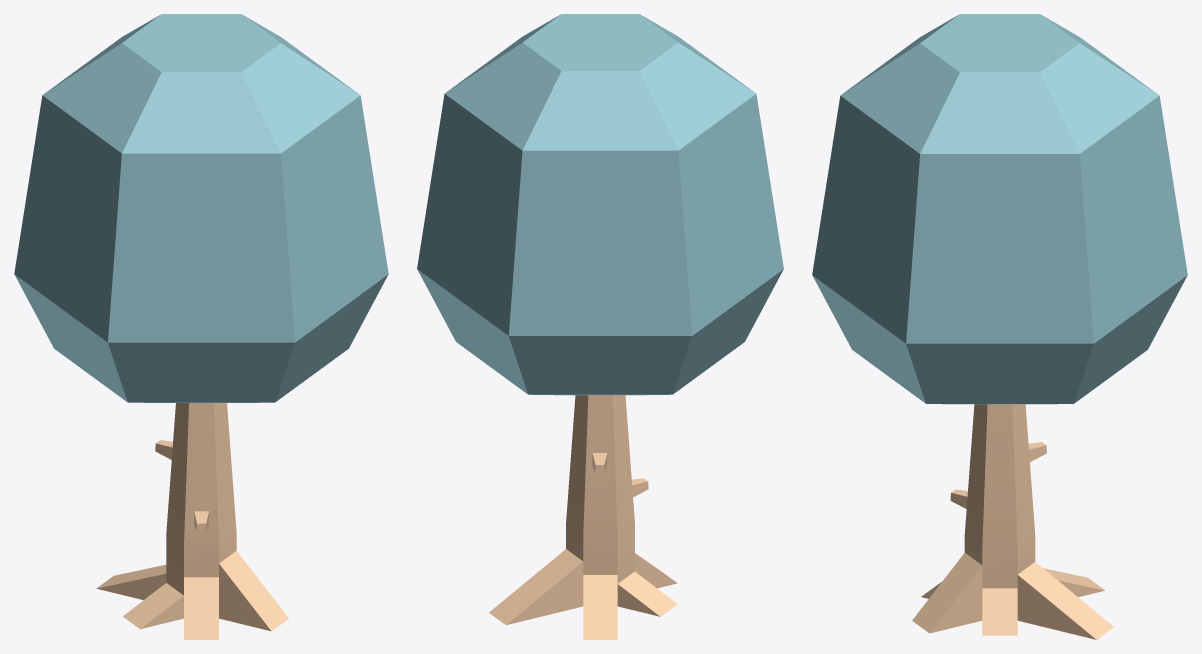
File: tree_oak_dark.glb
The picture shows the model from 3 angles, left to right: view 1: azimuth 30°, elevation 25°; view 2: azimuth 150°, elevation 25°; view 3: azimuth 270°, elevation 25°; orthographic projection. The views are drawn at different scales.
Parts seen in each view (by area): view 1: tree_oak_dark; view 2: tree_oak_dark; view 3: tree_oak_dark.
Boxes of the visible parts, x1=… form: tree_oak_dark: x1=14, y1=14, x2=388, y2=639; tree_oak_dark: x1=417, y1=14, x2=783, y2=639; tree_oak_dark: x1=812, y1=14, x2=1187, y2=639.
Size of the model in its own units: 0.6406 by 1.23 by 0.7396.
